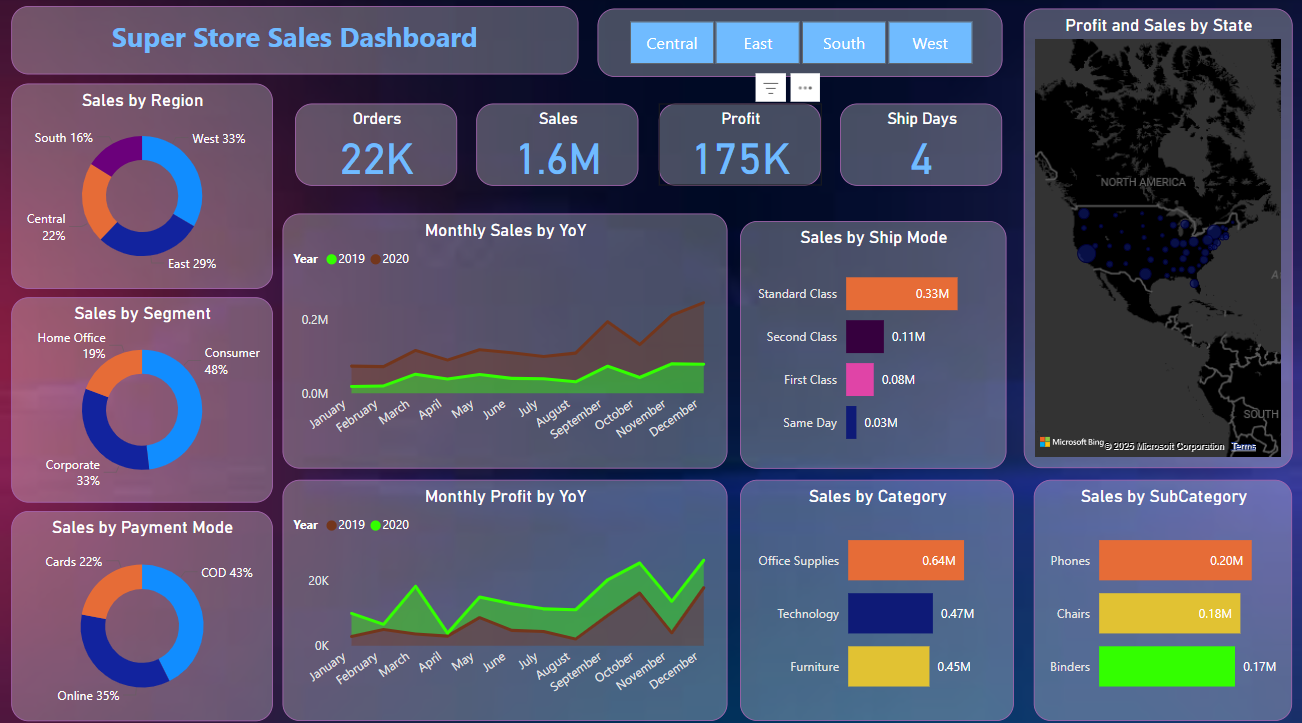

The page's visual inventory and layout, read from the dashboard file:
{"tool":"powerbi","page":{"name":"Dashboard","canvas":[1280,720],"ordinal":0},"visuals":[{"type":"clusteredBarChart","title":" Sales by Category","fields":{"Y":["Sum(SuperStore_Sales_Dataset.Sales)"],"Category":["SuperStore_Sales_Dataset.Category"]},"box":[726.4,474.8,268.7,236.8],"z":0},{"type":"clusteredBarChart","title":" Sales by SubCategory","fields":{"Category":["SuperStore_Sales_Dataset.Sub-Category"],"Y":["Sum(SuperStore_Sales_Dataset.Sales)"]},"box":[1014.7,474.8,254,236.8],"z":1000},{"type":"clusteredBarChart","title":" Sales by Ship Mode","fields":{"Category":["SuperStore_Sales_Dataset.Ship Mode"],"Y":["Sum(SuperStore_Sales_Dataset.Sales)"]},"box":[726.4,220.9,261.4,242.9],"z":2000},{"type":"stackedAreaChart","title":"Monthly Sales by YoY","fields":{"Y":["Sum(SuperStore_Sales_Dataset.Sales)"],"Series":["SuperStore_Sales_Dataset.Order Date.Variation.Date Hierarchy.Year"],"Category":["SuperStore_Sales_Dataset.Order Date.Variation.Date Hierarchy.Month","SuperStore_Sales_Dataset.Order Date.Variation.Date Hierarchy.Day"]},"box":[277.3,213.5,436.8,250.3],"z":3000},{"type":"stackedAreaChart","title":"Monthly Profit by YoY","fields":{"Series":["SuperStore_Sales_Dataset.Order Date.Variation.Date Hierarchy.Year"],"Category":["SuperStore_Sales_Dataset.Order Date.Variation.Date Hierarchy.Month","SuperStore_Sales_Dataset.Order Date.Variation.Date Hierarchy.Day"],"Y":["Sum(SuperStore_Sales_Dataset.Profit)"]},"box":[277.3,474.8,436.8,236.8],"z":4000},{"type":"map","title":"Profit and Sales by State","fields":{"Category":["SuperStore_Sales_Dataset.State"],"Size":["Sum(SuperStore_Sales_Dataset.Sales)"]},"box":[1004.9,12.3,263.8,451.5],"z":5000},{"type":"donutChart","title":" Sales by Segment","fields":{"Category":["SuperStore_Sales_Dataset.Segment"],"Y":["Sum(SuperStore_Sales_Dataset.Sales)"]},"box":[11,295.7,256.4,201.2],"z":6000},{"type":"donutChart","title":" Sales by Payment Mode","fields":{"Category":["SuperStore_Sales_Dataset.Payment Mode"],"Y":["Sum(SuperStore_Sales_Dataset.Sales)"]},"box":[11,505.5,256.4,206.1],"z":7000},{"type":"slicer","fields":{"Values":["SuperStore_Sales_Dataset.Region"]},"box":[586.5,12.3,397.5,67.5],"z":8000},{"type":"textbox","box":[11,9.8,557.1,67.5],"z":9000},{"type":"card","title":"Sales","fields":{"Values":["Sum(SuperStore_Sales_Dataset.Sales)"]},"box":[467.5,105.5,159.5,81],"z":10000},{"type":"card","title":"Orders","fields":{"Values":["Sum(SuperStore_Sales_Dataset.Quantity)"]},"box":[289.6,105.5,159.5,81],"z":11000},{"type":"card","title":"Profit","fields":{"Values":["Sum(SuperStore_Sales_Dataset.Profit)"]},"box":[646.6,105.5,159.5,81],"z":12000},{"type":"card","title":"Ship Days","fields":{"Values":["Avg(SuperStore_Sales_Dataset.AvgDelivary)"]},"box":[824.5,105.5,159.5,81],"z":13000},{"type":"donutChart","title":" Sales by Region","fields":{"Y":["Sum(SuperStore_Sales_Dataset.Sales)"],"Category":["SuperStore_Sales_Dataset.Region"]},"box":[11,85.9,256.4,201.2],"z":14000}]}

Visuals, with their boxes in screenshot pixels (x1, y1, x2, y2), scaled from the page's 1280x720 canvas onto the 1302x723 screenshot:
" Sales by Category" clusteredBarChart: [739,477,1012,715]
" Sales by SubCategory" clusteredBarChart: [1032,477,1291,715]
" Sales by Ship Mode" clusteredBarChart: [739,222,1005,466]
"Monthly Sales by YoY" stackedAreaChart: [282,214,726,466]
"Monthly Profit by YoY" stackedAreaChart: [282,477,726,715]
"Profit and Sales by State" map: [1022,12,1291,466]
" Sales by Segment" donutChart: [11,297,272,499]
" Sales by Payment Mode" donutChart: [11,508,272,715]
slicer - SuperStore_Sales_Dataset.Region: [597,12,1001,80]
textbox: [11,10,578,78]
"Sales" card: [476,106,638,187]
"Orders" card: [295,106,457,187]
"Profit" card: [658,106,820,187]
"Ship Days" card: [839,106,1001,187]
" Sales by Region" donutChart: [11,86,272,288]
